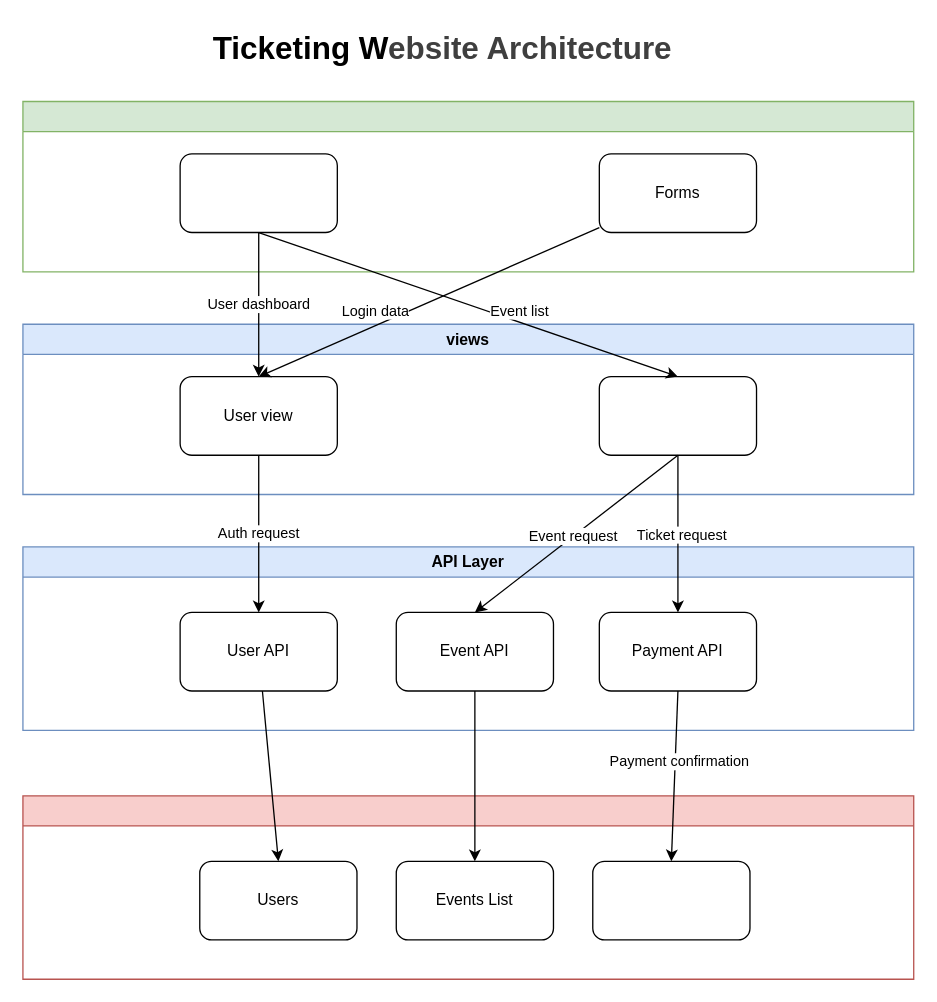
This 937x1002 diagram has some shape labels left out. The box of each missing label's shape, as (x1, y1, x2, y2) in pixels:
Client Layer (html/js/css): (22, 100, 914, 272)
Data Layer (SQL): (22, 795, 914, 979)
Event Claims: (591, 860, 750, 940)
Event view: (598, 375, 757, 455)
Template: (179, 153, 337, 233)
